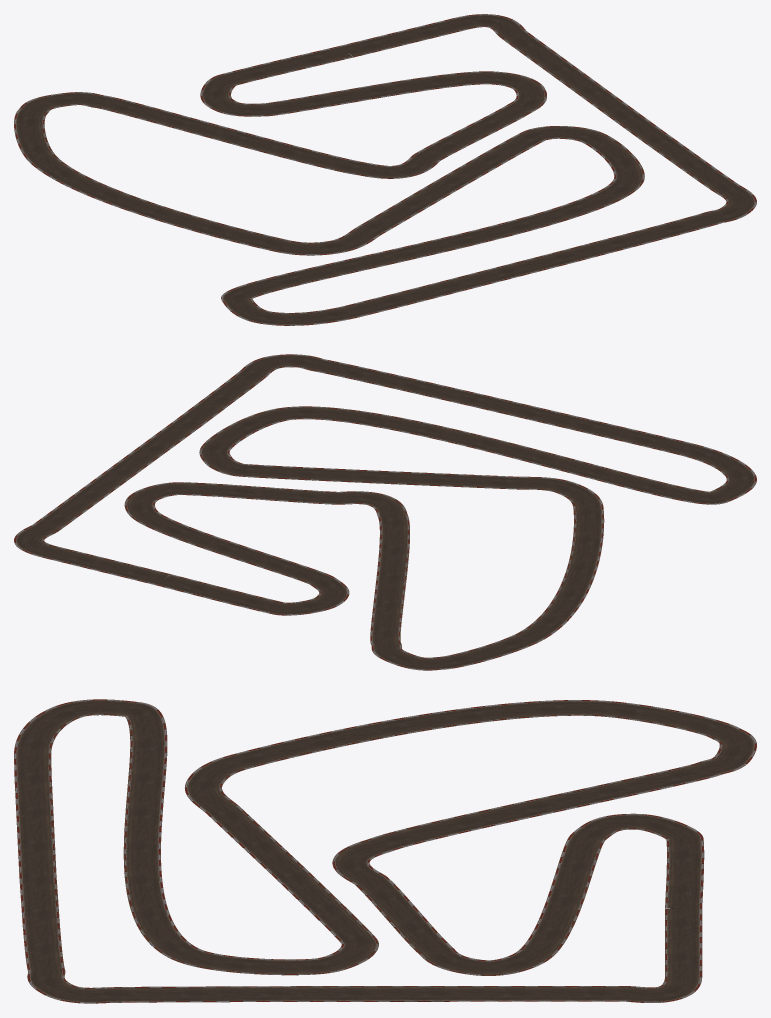
File: Road 3.fbx
The picture shows the model from 3 angles, top to bottom: view 1: azimuth 30°, elevation 25°; view 2: azimuth 150°, elevation 25°; view 3: azimuth 270°, elevation 25°; orthographic projection. The views are drawn at different scales.
Visible parts, largest first — view 1: Road_3; view 2: Road_3; view 3: Road_3.
Part boxes in pixels (x1,y1,x2,y2): Road_3: [14, 14, 756, 325]; Road_3: [14, 354, 756, 670]; Road_3: [14, 699, 756, 1003].
Size of the model in its own units: 77323 by 5 by 79817.
Materials: 1 (1 with a texture image).
